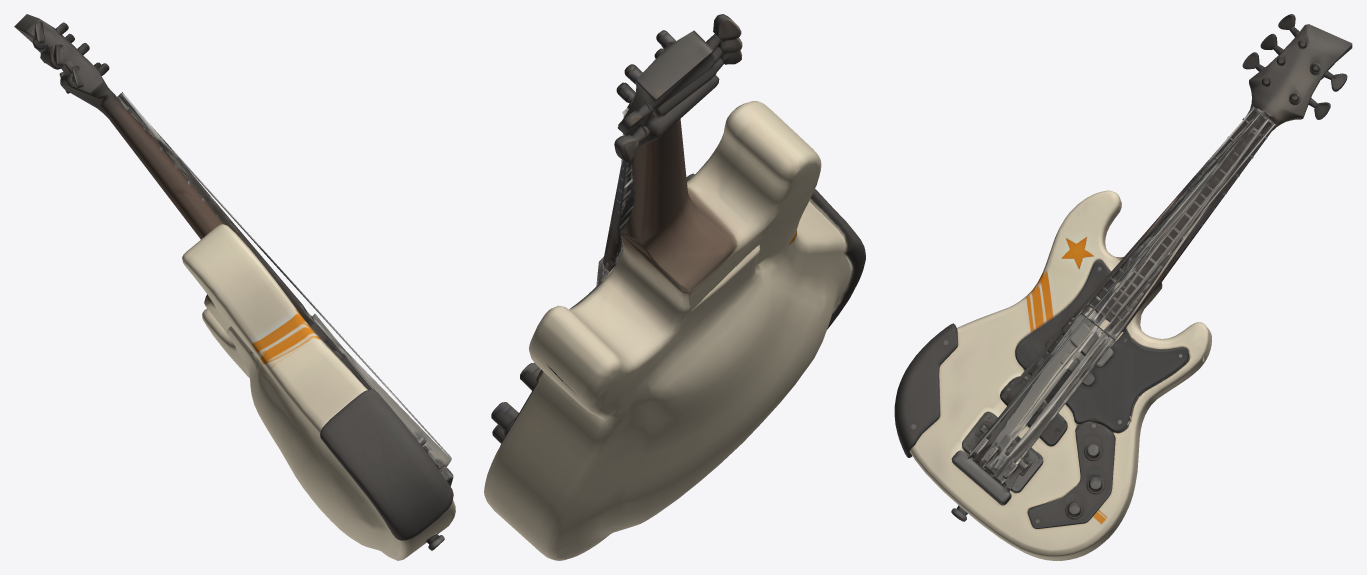
Rendered from tripo_convert_5b64ce41-451b-4bb9-9bff-dbc852b5699b.glb.
The picture shows the model from 3 angles, left to right: view 1: azimuth 30°, elevation 25°; view 2: azimuth 150°, elevation 25°; view 3: azimuth 270°, elevation 25°; orthographic projection. The views are drawn at different scales.
Visible parts, largest first — view 1: tripo_node_5b64ce41-451b-4bb9-9bff-dbc852b5699b; view 2: tripo_node_5b64ce41-451b-4bb9-9bff-dbc852b5699b; view 3: tripo_node_5b64ce41-451b-4bb9-9bff-dbc852b5699b.
Part boxes in pixels (x1,y1,x2,y2): tripo_node_5b64ce41-451b-4bb9-9bff-dbc852b5699b: [14, 14, 455, 560]; tripo_node_5b64ce41-451b-4bb9-9bff-dbc852b5699b: [484, 14, 865, 560]; tripo_node_5b64ce41-451b-4bb9-9bff-dbc852b5699b: [894, 14, 1352, 560].
Size of the model in its own units: 0.5786 by 0.9995 by 0.9263.
Materials: 1 (1 with a texture image).
